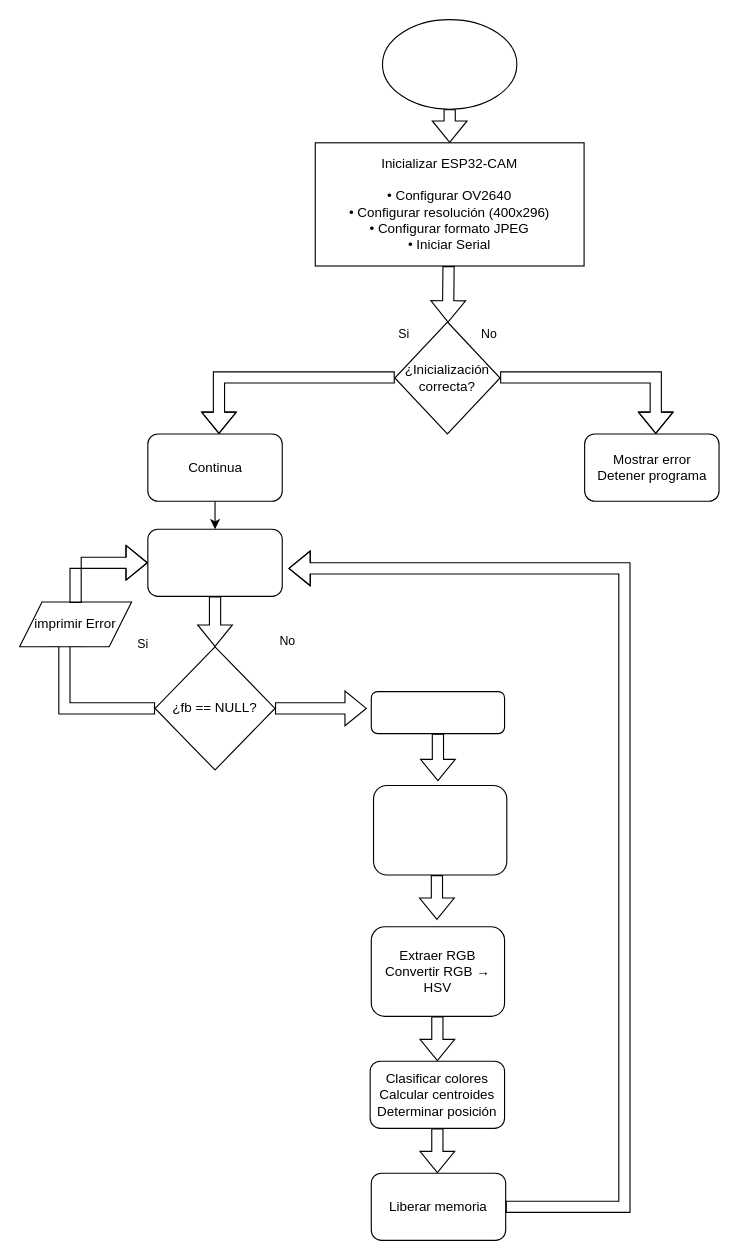
The diagram is 739 pixels wide and 1260 high, and some of its shapes have lost their labels. The centre of each missing label's shape, as x and y in pixels:
Capturar Frame camera_fb_t *fb: the point at 214,562
INICIO: the point at 449,63
Recorrer la imagen: the point at 437,712
Recorrer todos los píxeles for(y) for(x) PIXEL_STEP = 2: the point at 439,829
